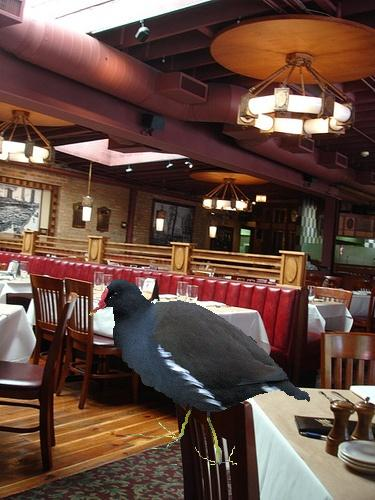tampered: (90, 280, 310, 465)
